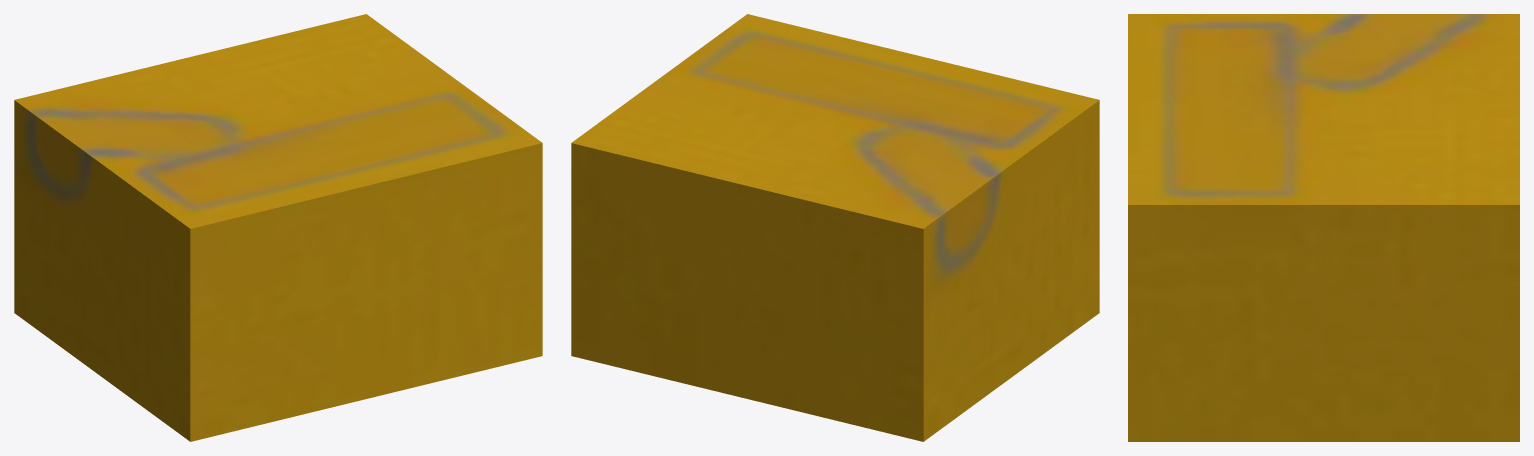
The model's file is body__hose_clip.glb.
3 renders of one model, left to right at view 1: azimuth 30°, elevation 25°; view 2: azimuth 150°, elevation 25°; view 3: azimuth 270°, elevation 25°, orthographic. The views are drawn at different scales.
Visible parts, largest first — view 1: geometry_0; view 2: geometry_0; view 3: geometry_0.
Boxes of the visible parts, x1,y1,x2,y2 form: geometry_0: [14, 14, 542, 441]; geometry_0: [571, 14, 1099, 441]; geometry_0: [1128, 14, 1519, 441].
Bounding box in the file's own units: 0.09 × 0.052 × 0.078.
Materials: 1 (1 with a texture image).
